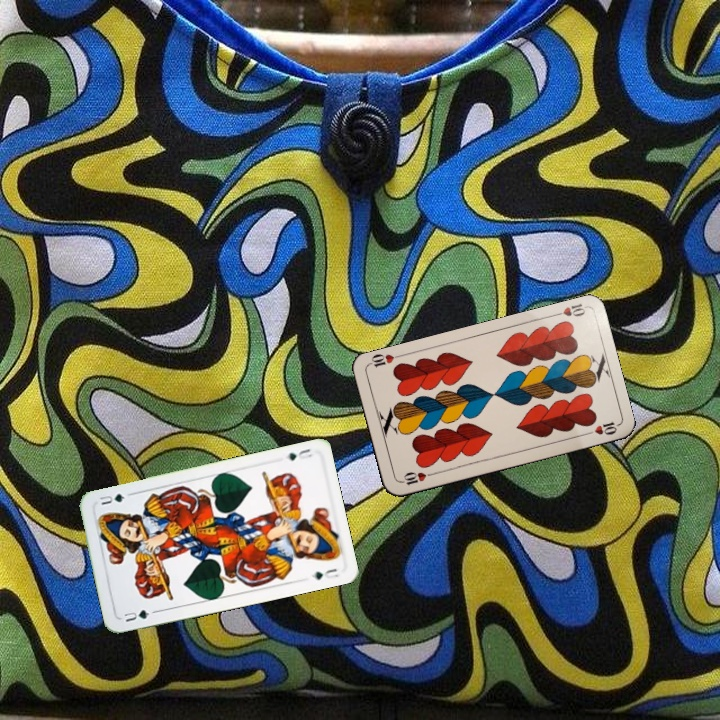GU: (120, 605, 152, 625), (281, 445, 315, 463)
H10: (397, 468, 437, 488), (548, 300, 588, 319)
